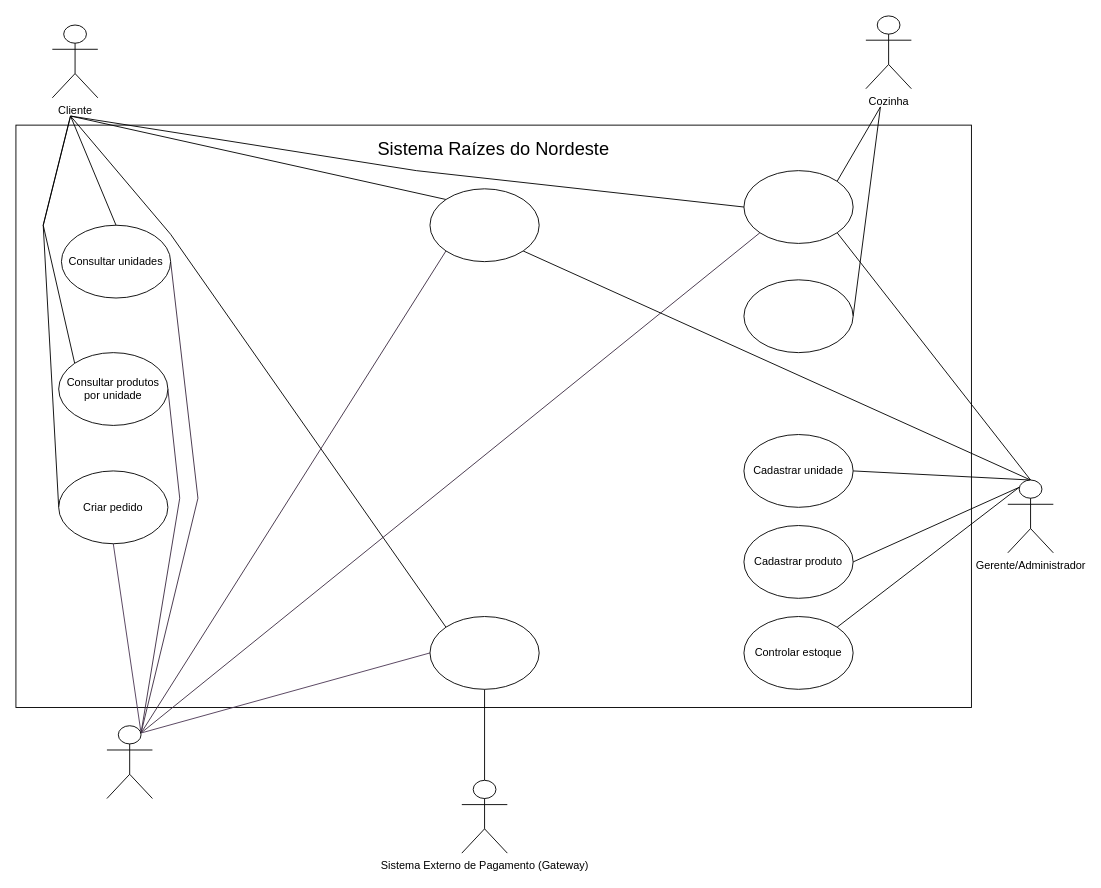
Some shapes in this 1101 by 888 pixel diagram are drawn without their labels. Each missing label, with the centre of its shape:
"Atendente" belongs at (x=129, y=762).
"Atualizar status do pedido" belongs at (x=798, y=316).
"Consultar pedido" belongs at (x=798, y=206).
"Realizar login" belongs at (x=484, y=225).
"Realizar Pagamento" belongs at (x=484, y=652).
